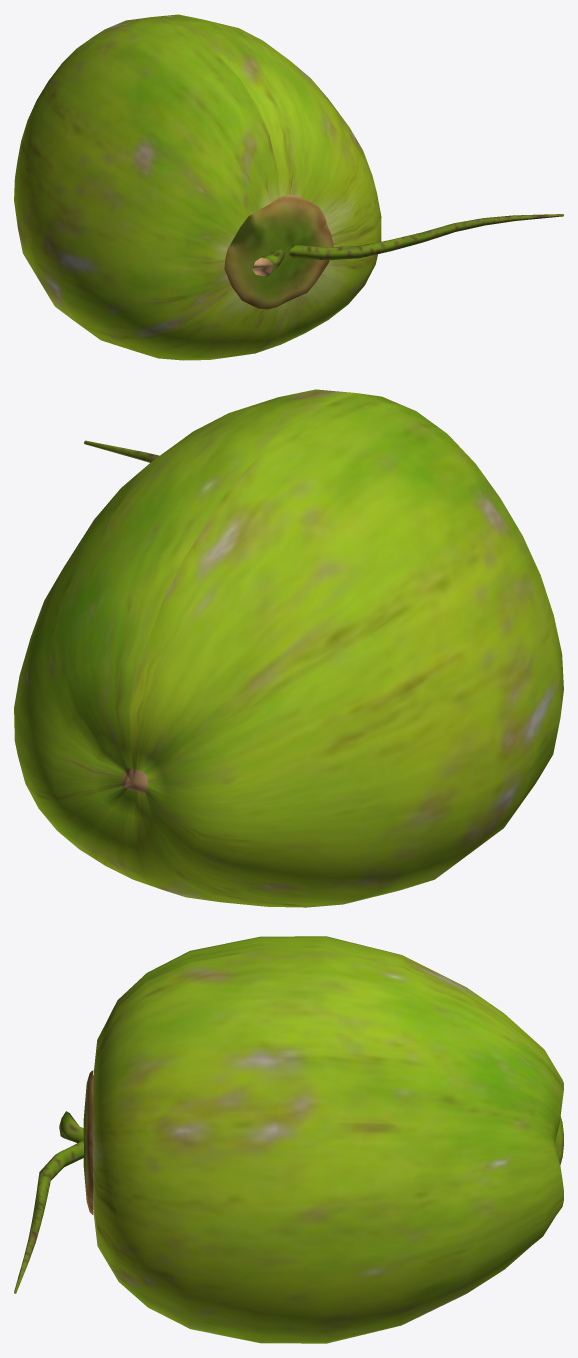
Rendered from coconut.glb.
3 views of the same model, one above another, from view 1: azimuth 30°, elevation 25°; view 2: azimuth 150°, elevation 25°; view 3: azimuth 270°, elevation 25° (orthographic). The views are drawn at different scales.
Parts seen in each view (by area): view 1: coconut; view 2: coconut; view 3: coconut.
Part boxes in pixels (x1,y1,x2,y2): coconut: [14, 14, 563, 360]; coconut: [14, 389, 563, 907]; coconut: [14, 936, 563, 1343].
Bounding box in the file's own units: 0.25 × 0.1785 × 0.2443.
Materials: 1 (1 with a texture image).
